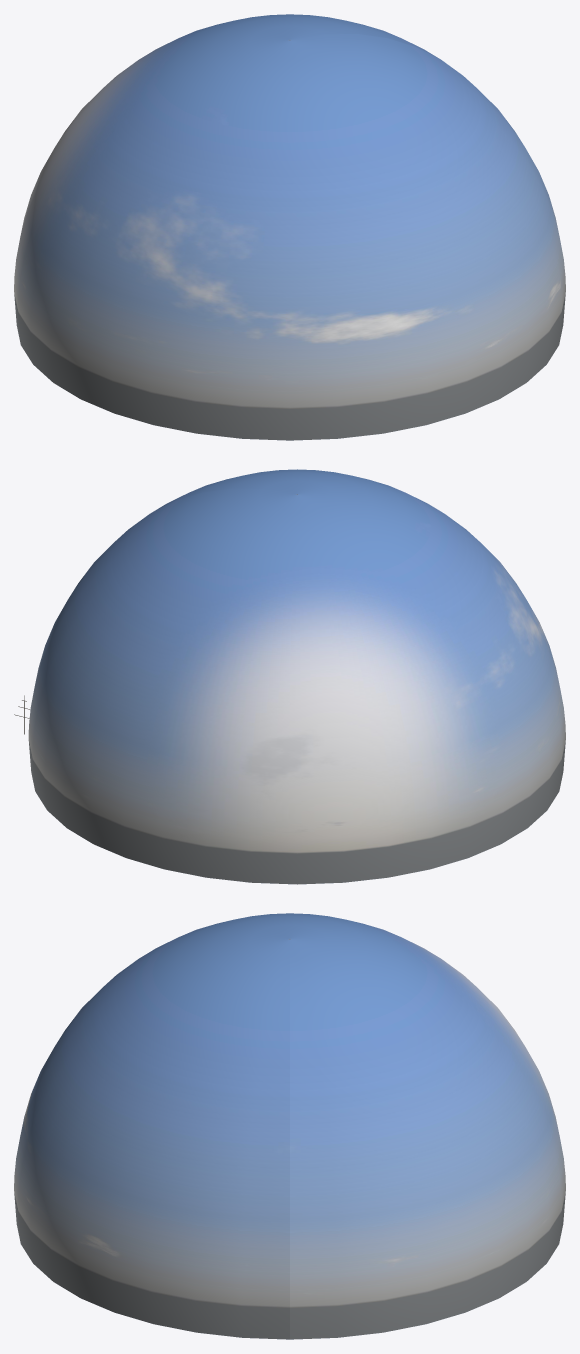
Rendered from spyglass_tavern.gltf.
3 views of the same model, one above another, from view 1: azimuth 30°, elevation 25°; view 2: azimuth 150°, elevation 25°; view 3: azimuth 270°, elevation 25° (orthographic). The views are drawn at different scales.
Visible parts, largest first — view 1: SkyDome; view 2: SkyDome; view 3: SkyDome.
Part boxes in pixels (box(x1,y1,x2,y2)): SkyDome: box(14, 14, 565, 440); SkyDome: box(28, 469, 565, 884); SkyDome: box(14, 913, 565, 1339).
Bounding box in the file's own units: 190 × 108 × 190.
39 materials, 39 textured.
